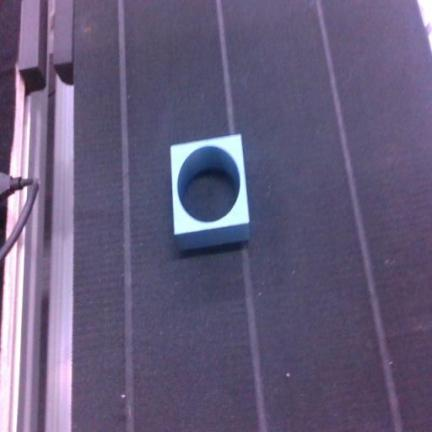square: (171, 135, 249, 249)
